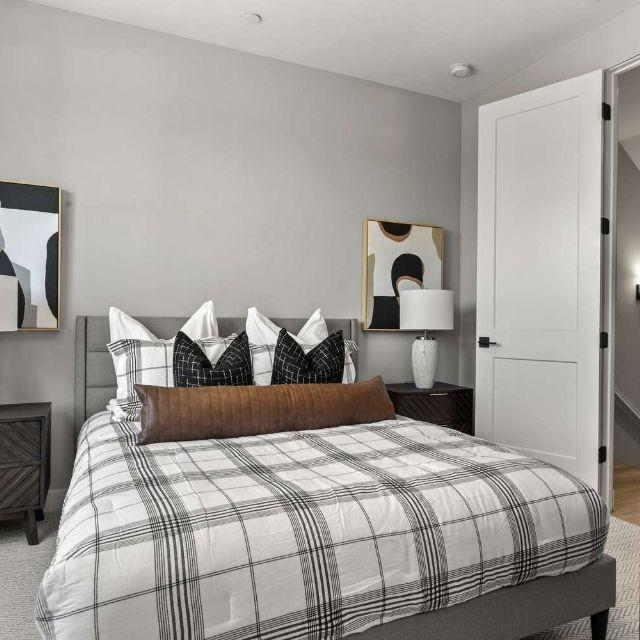bed: (75, 413, 614, 640)
door: (477, 71, 639, 512)
mirror: (394, 282, 463, 399)
pillow: (137, 376, 393, 436), (114, 324, 248, 409), (253, 314, 355, 387)
